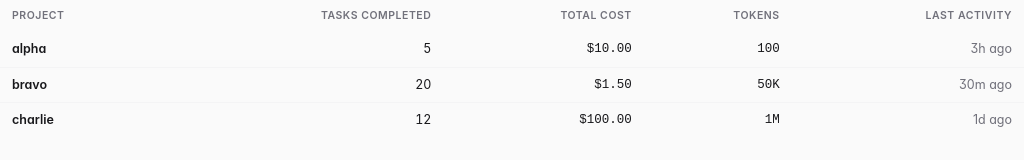
Scenario: ByProjectTable / sort cycle › clicking a different column resets the previous and starts at asc
Step 1. Click the button with test id "by-project-table-header-button-project" → coordinates (38, 16), box [12,8,64,24]
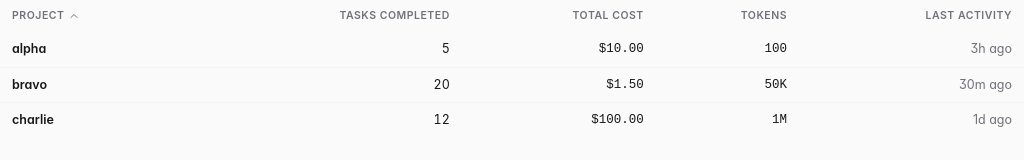
Step 2. Click the button with test id "by-project-table-header-button-project" → coordinates (46, 16), box [12,8,80,24]
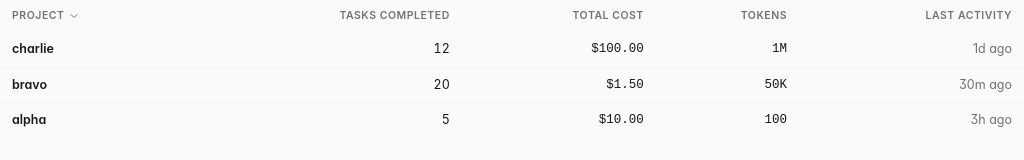
Step 3. Click the button with test id "by-project-table-header-button-tasksCompleted" → coordinates (395, 16), box [339,8,450,24]
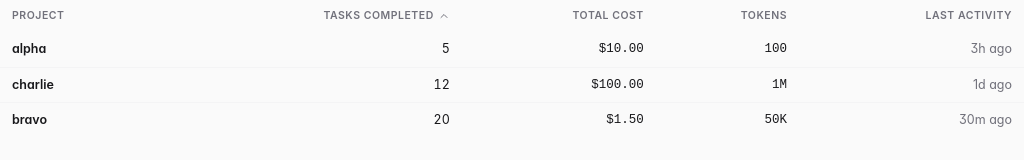
Now the icon with test id "by-project-table-sort-icon-project" is gone
Now the elements with test id "by-project-table-name" read "alpha", "charlie", "bravo", in this order, box [12,41,46,56]; [12,76,54,92]; [12,112,47,127]
